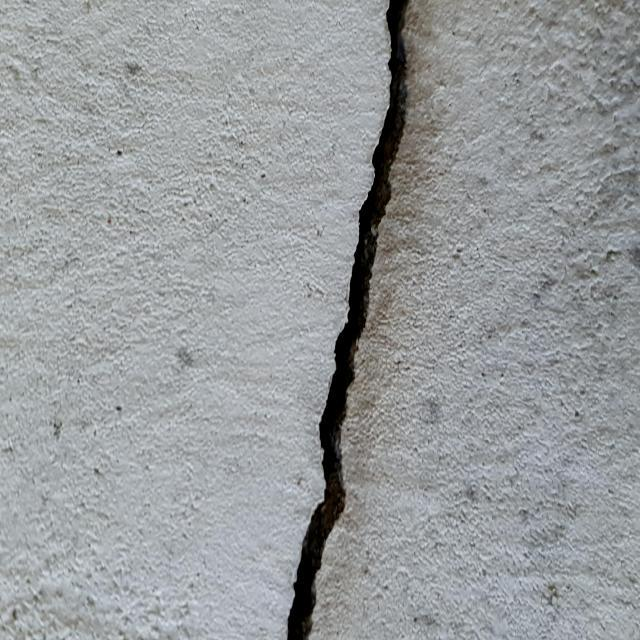SurfaceCrack: (242, 0, 459, 639)
